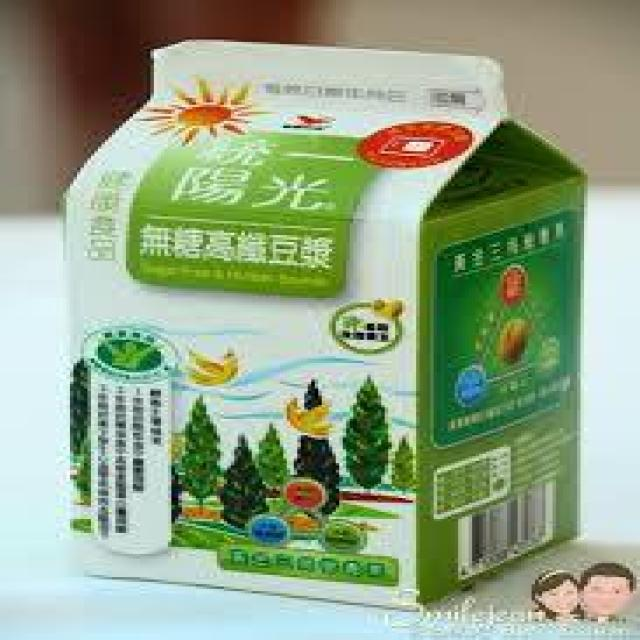TongYi_UnsweetenedHighFiberSoyMilk: (46, 26, 586, 616)
